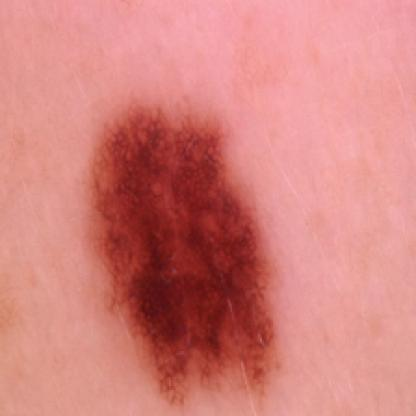benign: (87, 115, 297, 403)
